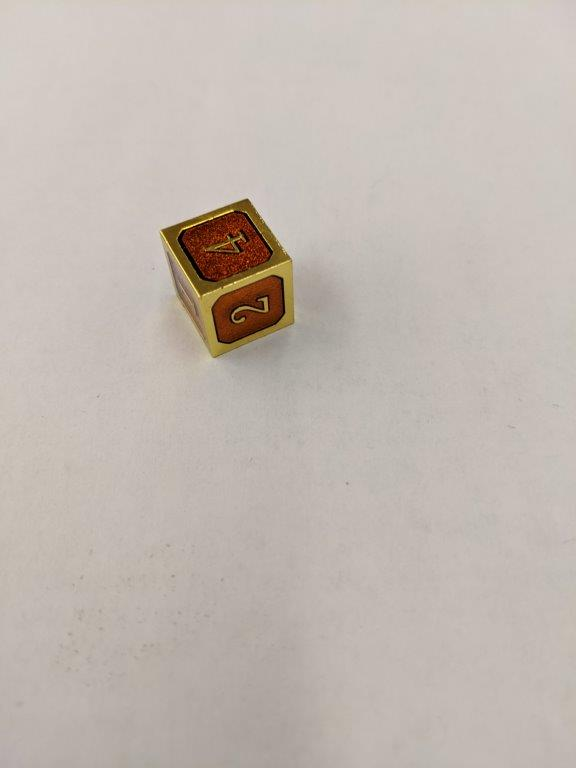d6-4: (161, 194, 297, 359)
